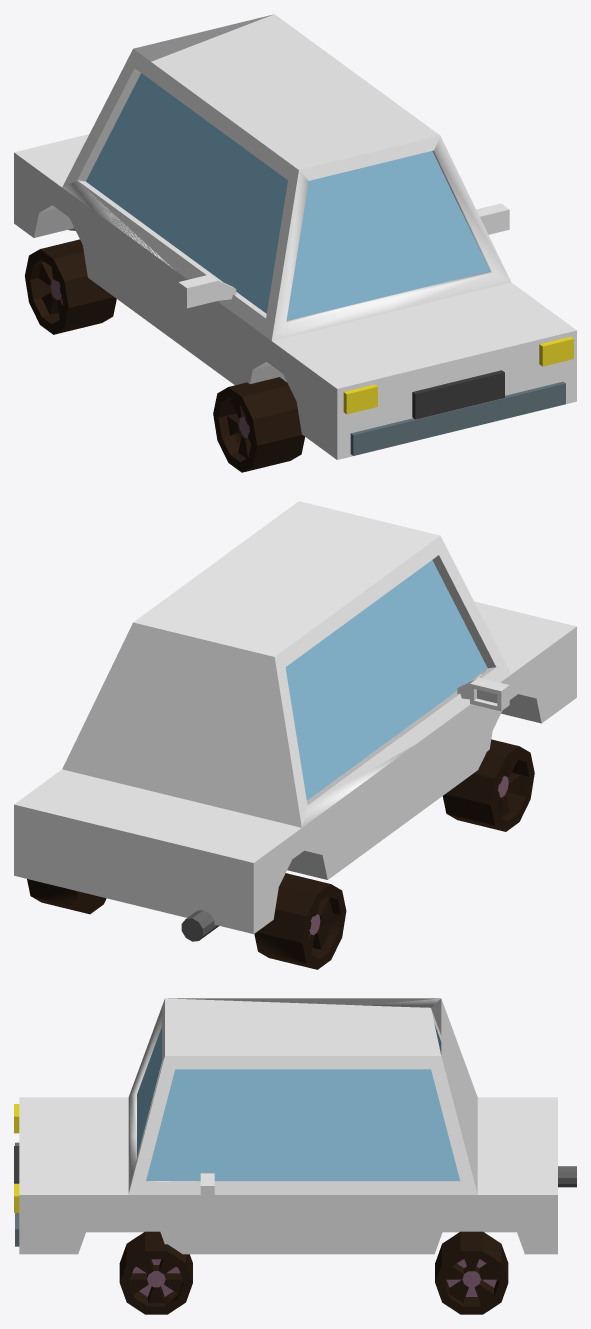
The model's file is simple-car.gltf.
The picture shows the model from 3 angles, top to bottom: view 1: azimuth 30°, elevation 25°; view 2: azimuth 150°, elevation 25°; view 3: azimuth 270°, elevation 25°; orthographic projection. The views are drawn at different scales.
Parts seen in each view (by area): view 1: chassis, extra-car-stuff, front-right-tire, back-right-tire; view 2: chassis, extra-car-stuff, back-right-tire, front-right-tire, back-left-tire; view 3: chassis, extra-car-stuff, back-left-tire, front-left-tire.
Part boxes in pixels (x1,y1,x2,y2): chassis: (14, 14, 576, 459); extra-car-stuff: (68, 73, 573, 455); front-right-tire: (213, 377, 304, 472); back-right-tire: (25, 239, 116, 334); chassis: (14, 501, 576, 934); extra-car-stuff: (181, 560, 487, 941); back-right-tire: (254, 873, 346, 969); front-right-tire: (442, 739, 534, 831); back-left-tire: (27, 879, 106, 914); chassis: (19, 998, 557, 1254); extra-car-stuff: (14, 1024, 576, 1246); back-left-tire: (435, 1231, 508, 1314); front-left-tire: (119, 1231, 192, 1314).
Bounding box in the file's own units: 4.13 × 3.4 × 7.49.
1 material, 1 textured.
